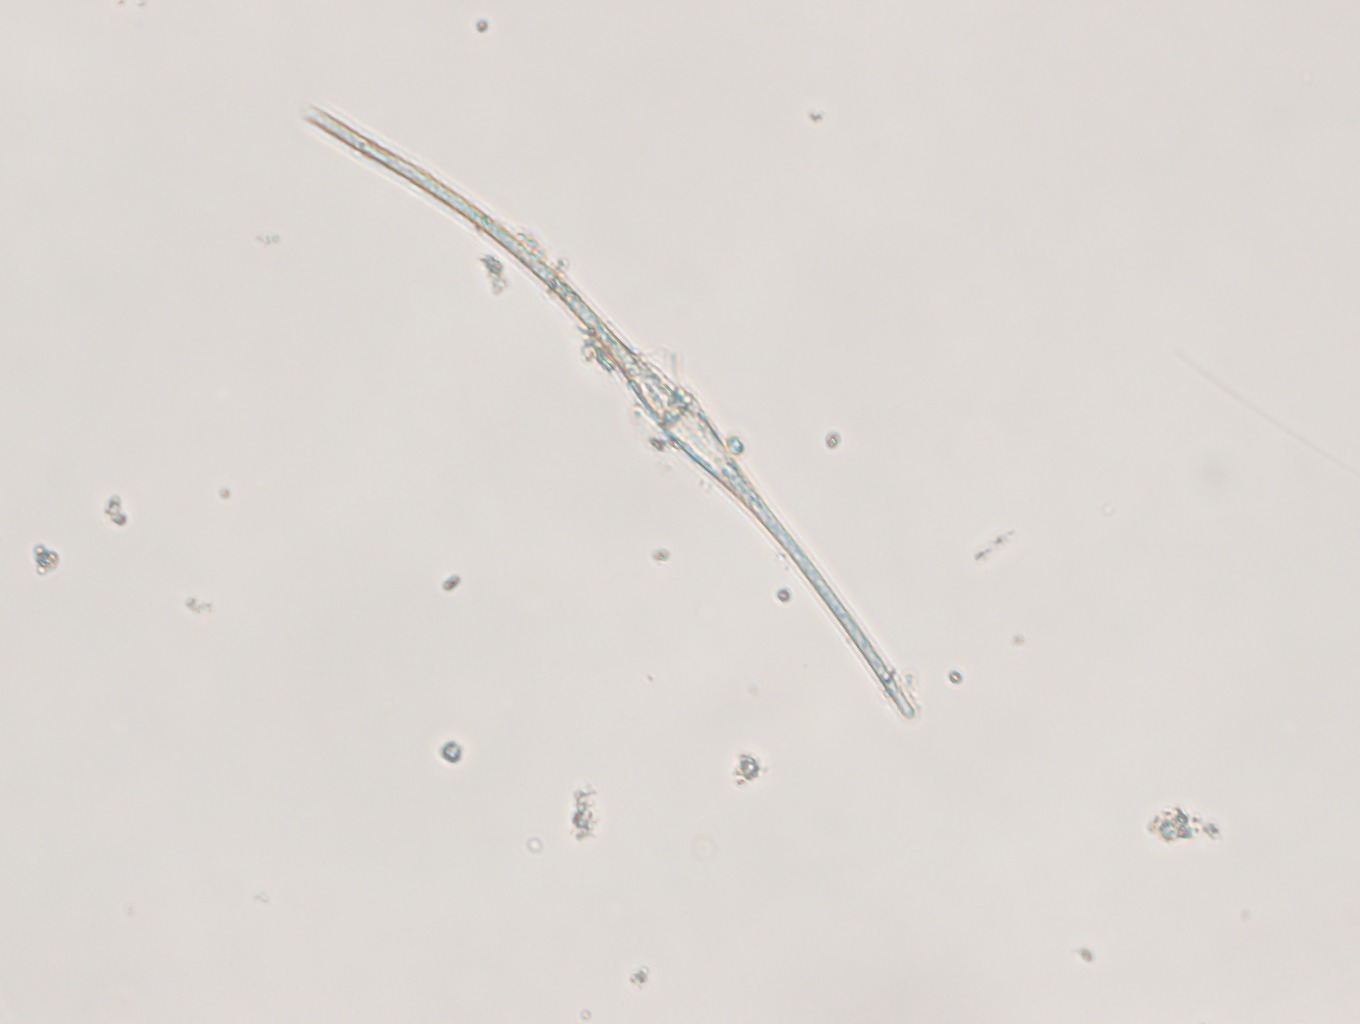ceratium fusus: (301, 104, 919, 720)
